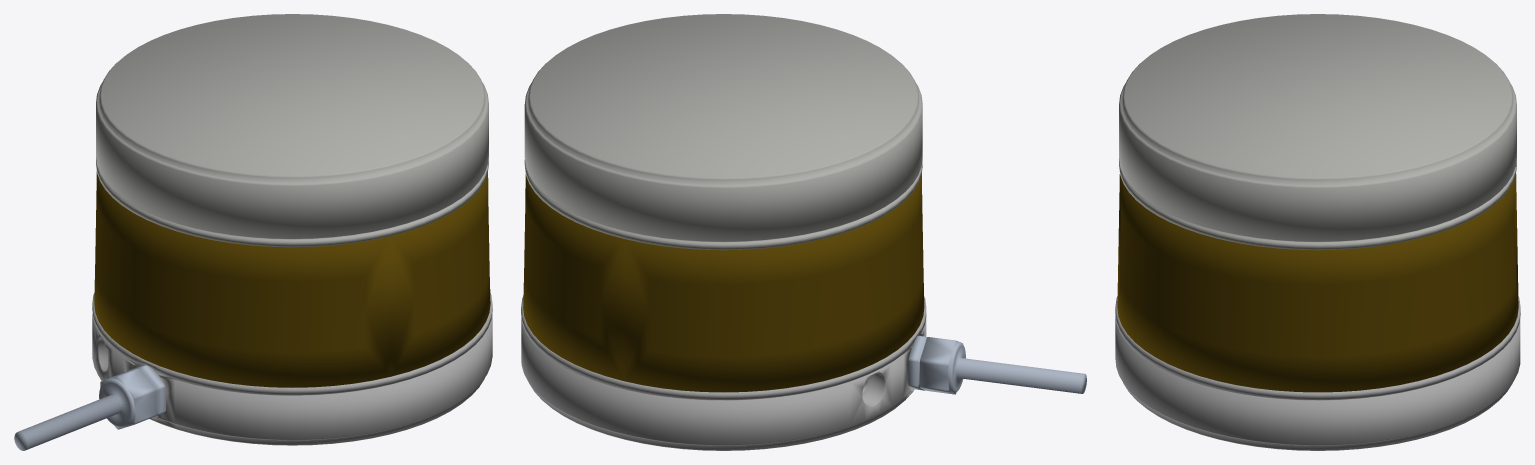
3 renders of one model, left to right at view 1: azimuth 30°, elevation 25°; view 2: azimuth 150°, elevation 25°; view 3: azimuth 270°, elevation 25°, orthographic.
Visible parts, largest first — view 1: cap, window, housing, gland; view 2: cap, window, housing, gland; view 3: cap, window, housing.
Part boxes in pixels (bbox=[...]): cap: bbox=[96, 14, 488, 247]; window: bbox=[94, 171, 490, 387]; housing: bbox=[92, 292, 492, 445]; gland: bbox=[14, 365, 165, 450]; cap: bbox=[524, 14, 922, 250]; window: bbox=[523, 173, 924, 392]; housing: bbox=[521, 296, 926, 450]; gland: bbox=[907, 335, 1086, 394]; cap: bbox=[1119, 14, 1516, 250]; window: bbox=[1117, 174, 1518, 392]; housing: bbox=[1115, 296, 1520, 450].
Size of the model in its own units: 0.1537 by 0.109 by 0.0807.
